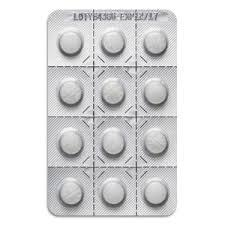tablet: (142, 77, 168, 107), (100, 128, 126, 156), (58, 78, 83, 107), (100, 29, 126, 56), (100, 79, 126, 106), (142, 28, 167, 55), (143, 180, 168, 206), (58, 128, 82, 155), (57, 30, 82, 55), (144, 129, 168, 155), (102, 181, 125, 205), (60, 181, 80, 206)
